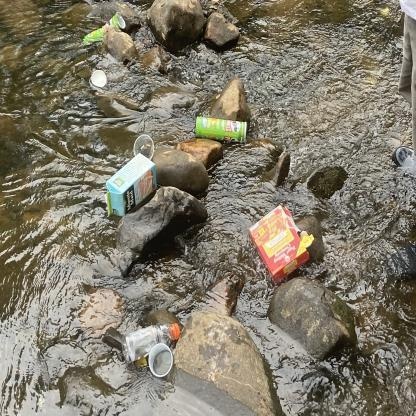trash: (247, 198, 320, 291), (102, 150, 164, 224), (119, 317, 185, 367), (76, 6, 131, 58), (189, 116, 251, 146), (144, 342, 178, 380), (129, 131, 157, 164), (86, 66, 113, 94)
